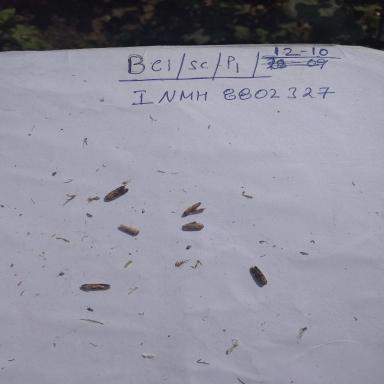pbw: (241, 262, 273, 289), (102, 182, 132, 202), (179, 200, 207, 218), (77, 281, 112, 293), (178, 220, 210, 233), (116, 222, 140, 237)
